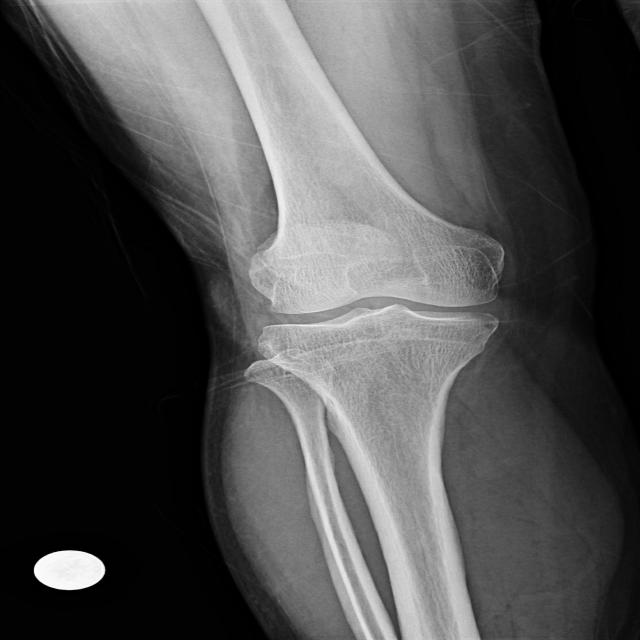osteo: (239, 233, 509, 351)
